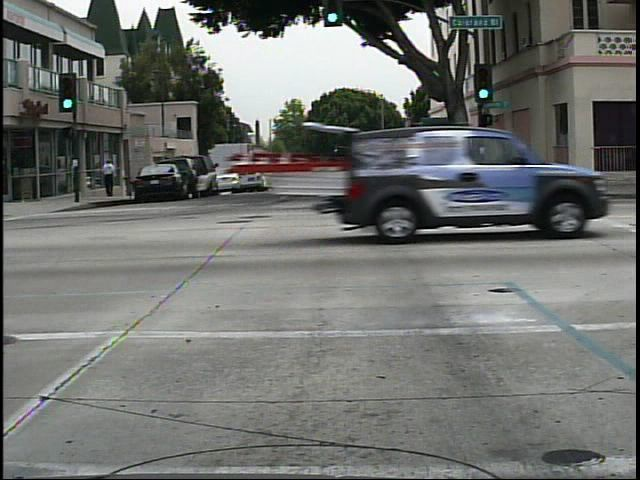person: (454, 141, 482, 196), (97, 153, 123, 202)
